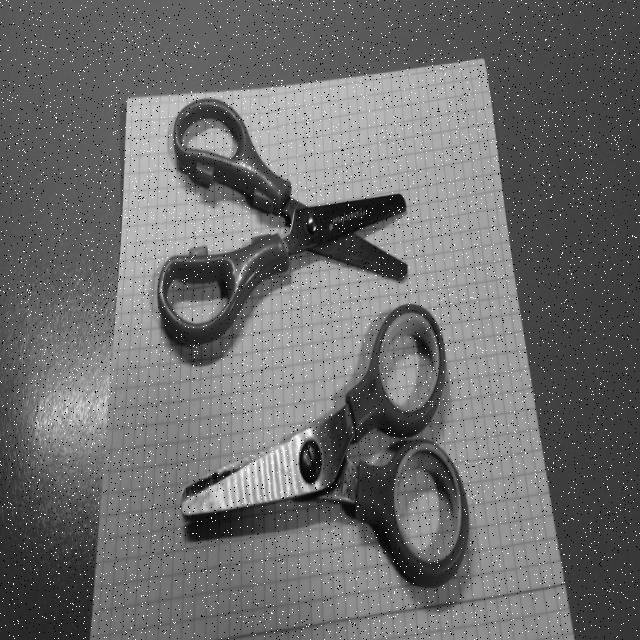scissors: (168, 258, 487, 606), (147, 75, 421, 366)
